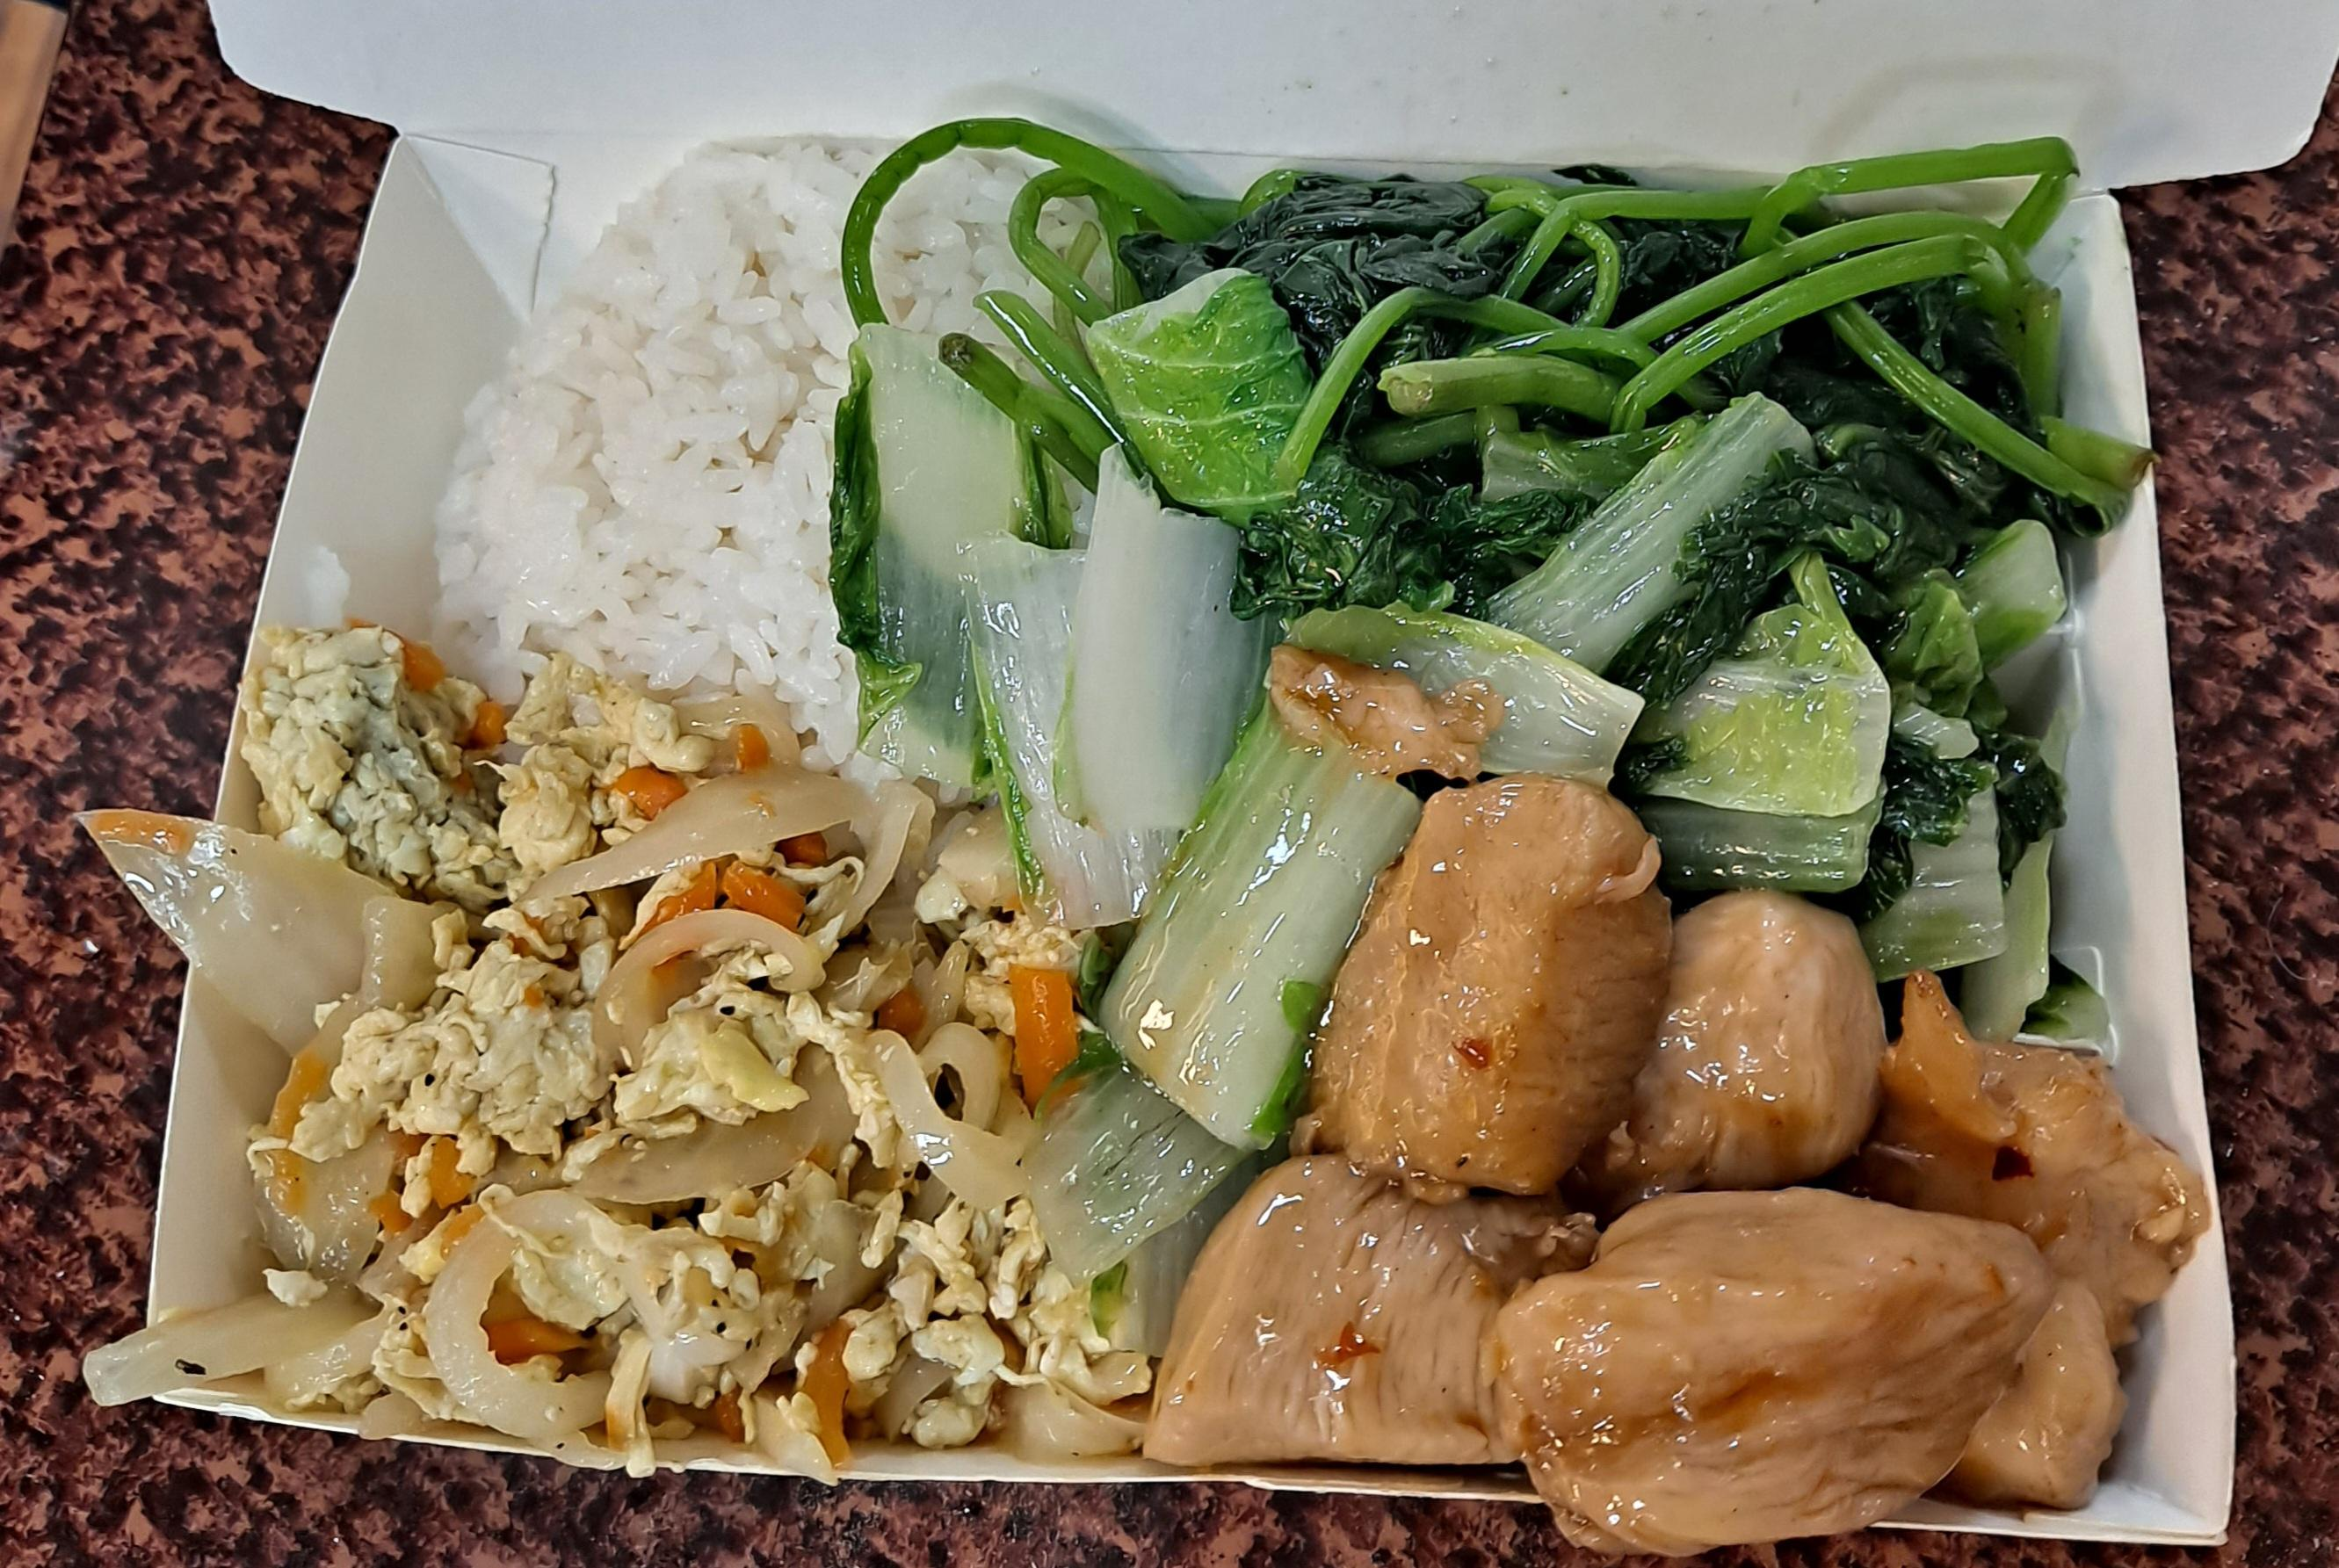big grilled chicken leg: (109, 84, 2274, 1559)
big herbal chicken leg: (452, 156, 1162, 738)
braised fish fillet: (100, 633, 1152, 1466), (970, 455, 2090, 966), (1129, 182, 2103, 579)
braised pork: (1155, 765, 2202, 1540)
